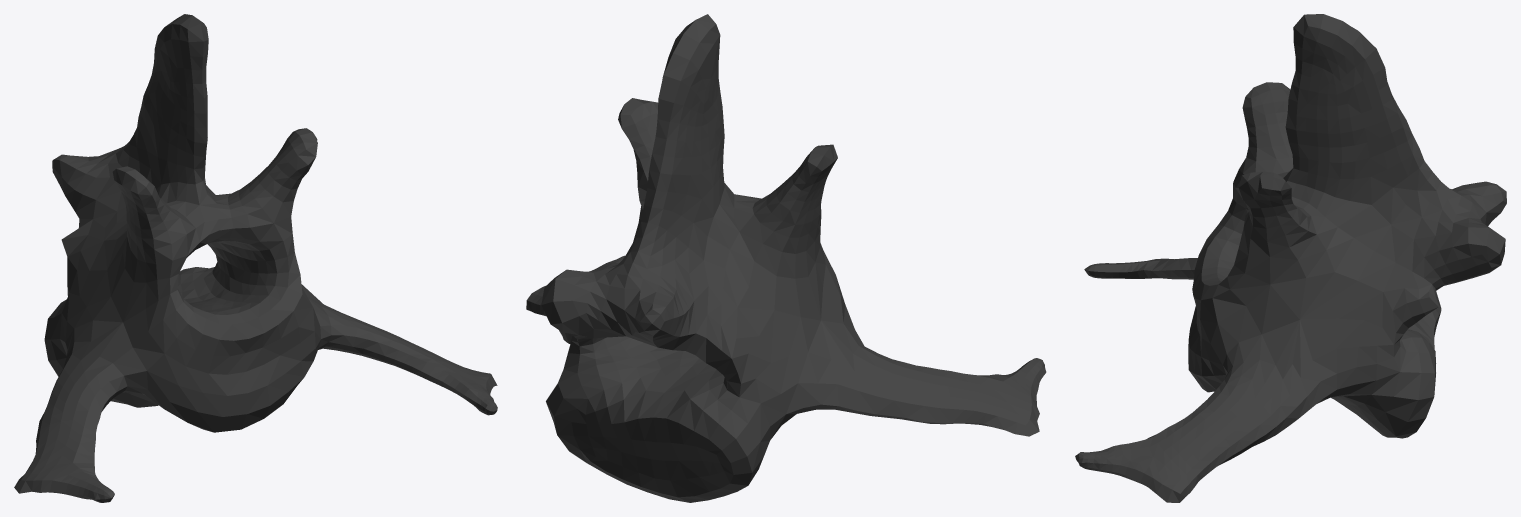
The picture shows the model from 3 angles, left to right: view 1: azimuth 30°, elevation 25°; view 2: azimuth 150°, elevation 25°; view 3: azimuth 270°, elevation 25°; orthographic projection. The views are drawn at different scales.
Parts seen in each view (by area): view 1: L4; view 2: L4; view 3: L4.
Boxes of the visible parts, x1,y1,x2,y2 form: L4: (14, 14, 497, 502); L4: (526, 14, 1046, 502); L4: (1075, 14, 1506, 502).
Bounding box in the file's own units: 4.11 × 3.41 × 3.21.
Materials: 1 (1 with a texture image).
